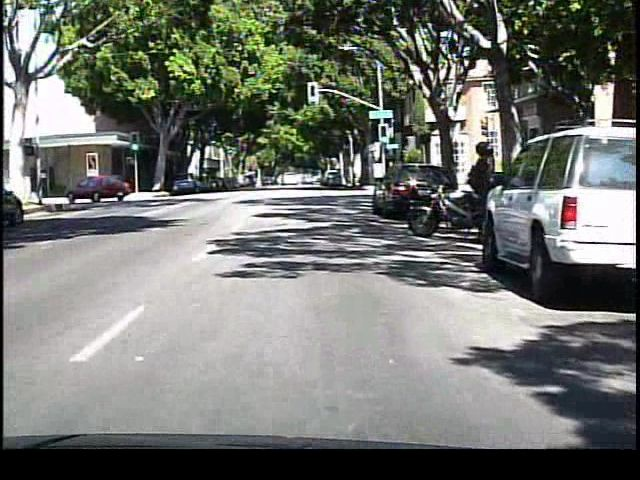person: (461, 133, 505, 246)
